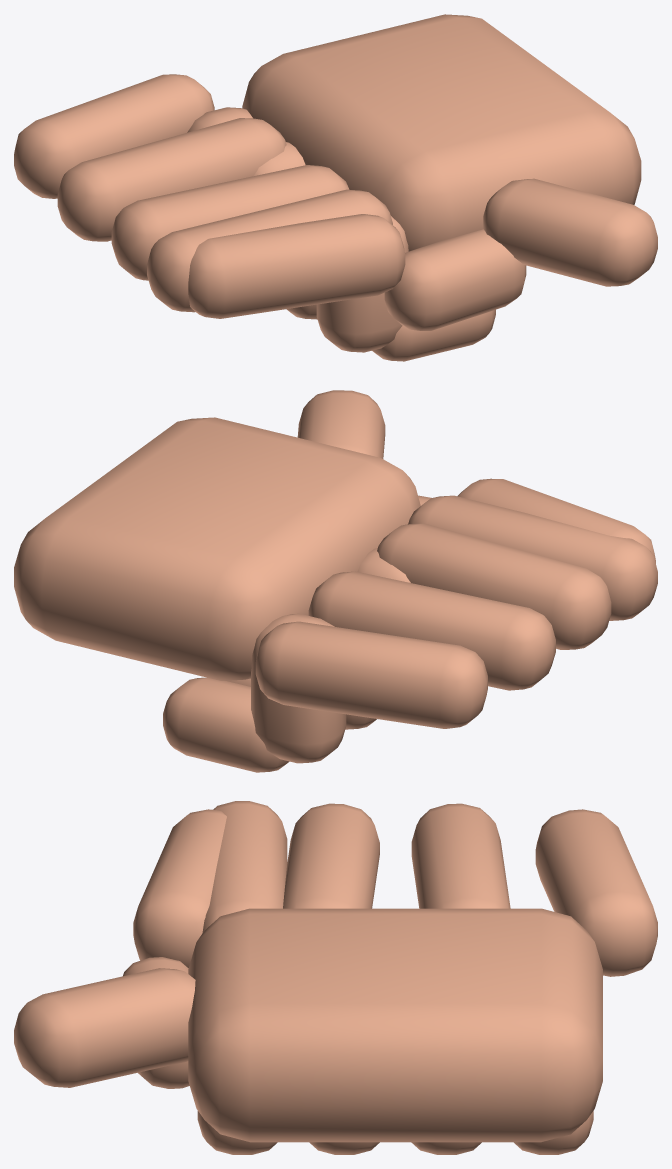
Rendered from haende.glb.
3 renders of one model, top to bottom at view 1: azimuth 30°, elevation 25°; view 2: azimuth 150°, elevation 25°; view 3: azimuth 270°, elevation 25°, orthographic. The views are drawn at different scales.
Visible parts, largest first — view 1: hand_faust, hand_offen, hand_zeigen; view 2: hand_faust, hand_offen, hand_zeigen; view 3: hand_faust, hand_offen, hand_zeigen.
Boxes of the visible parts, x1,y1,x2,y2 form: hand_faust: (187,14,641,361); hand_offen: (14,74,657,318); hand_zeigen: (147,189,392,312); hand_faust: (14,417,431,772); hand_offen: (255,390,655,728); hand_zeigen: (408,495,657,620); hand_faust: (123,908,602,1154); hand_offen: (14,803,657,1087); hand_zeigen: (202,801,287,933).
Size of the model in its own units: 0.198 by 0.076 by 0.2018.
